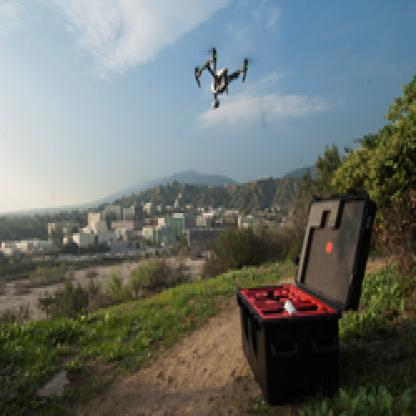drone: (185, 40, 253, 113)
